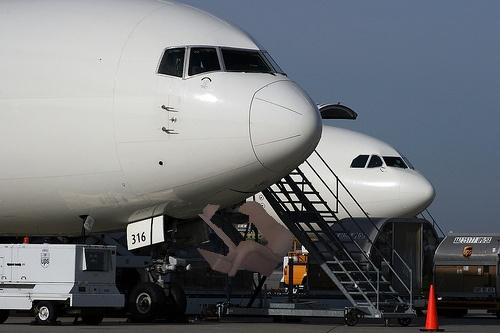tampered: (198, 201, 293, 277)
